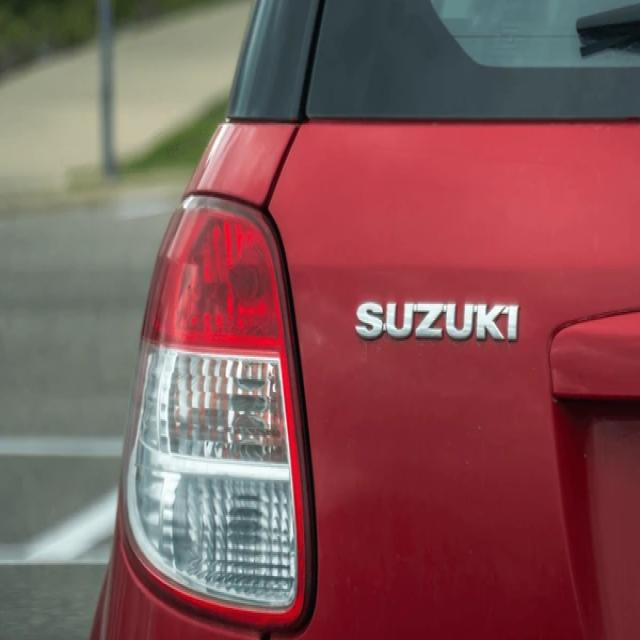suzuki: (352, 290, 529, 354)
